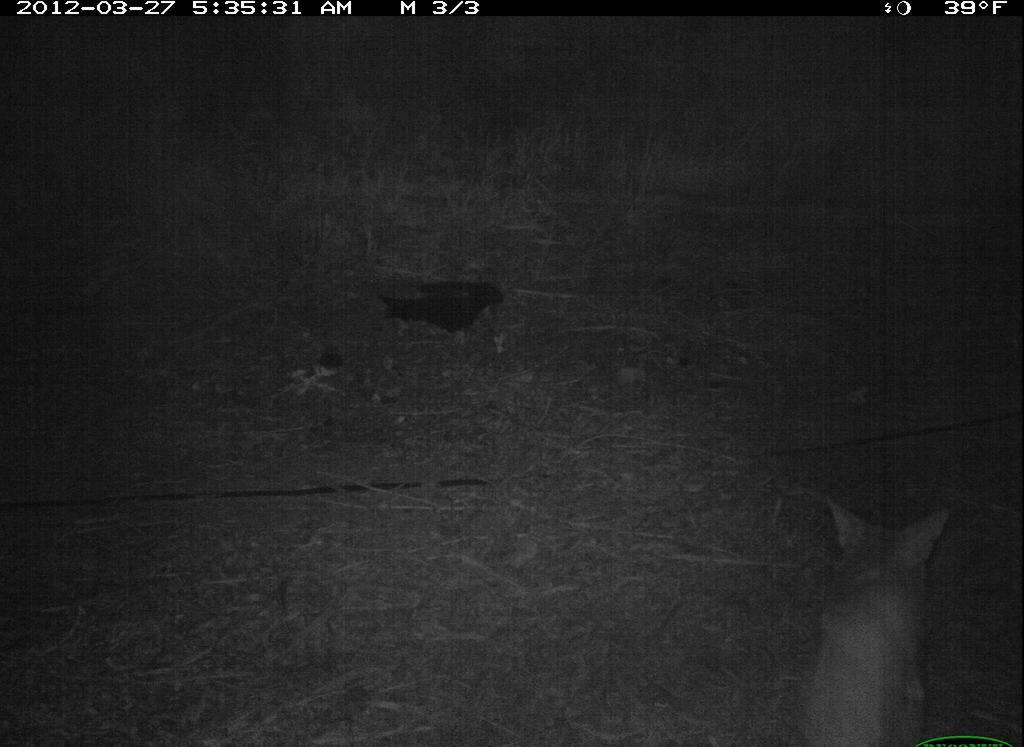coyote: (793, 483, 961, 745)
